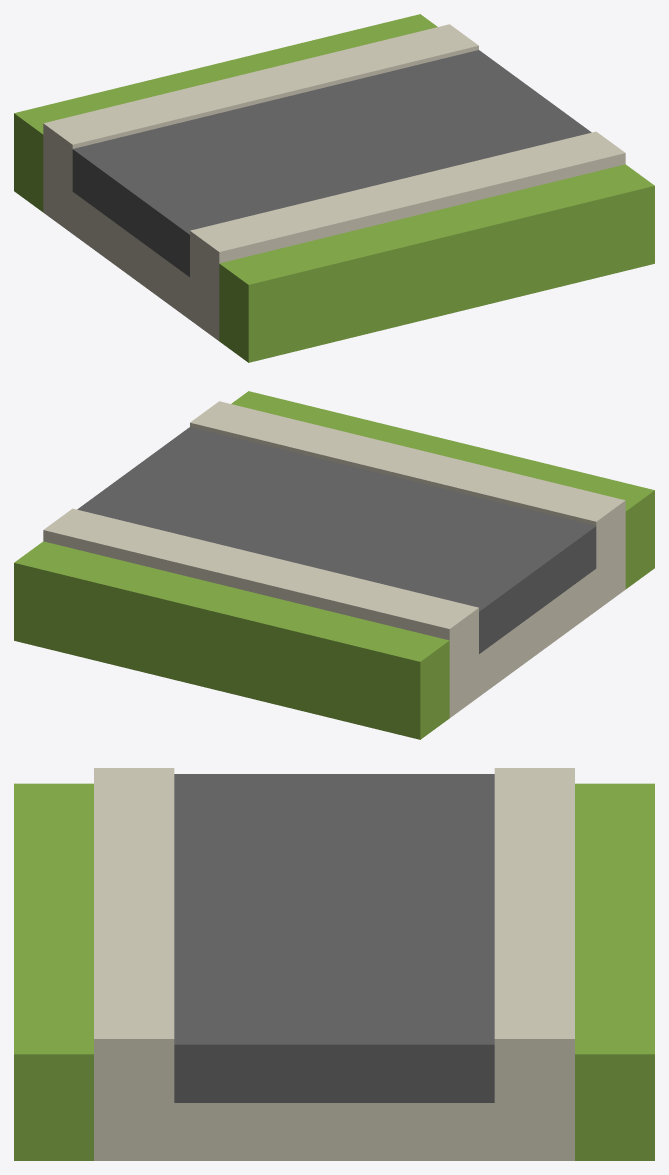
The model's file is road-one-way-grass.obj.
The picture shows the model from 3 angles, top to bottom: view 1: azimuth 30°, elevation 25°; view 2: azimuth 150°, elevation 25°; view 3: azimuth 270°, elevation 25°; orthographic projection. The views are drawn at different scales.
Parts seen in each view (by area): view 1: Mesh1_Group1_Model.161; view 2: Mesh1_Group1_Model.161; view 3: Mesh1_Group1_Model.161.
Boxes of the visible parts, x1,y1,x2,y2 form: Mesh1_Group1_Model.161: [14, 14, 654, 362]; Mesh1_Group1_Model.161: [14, 391, 654, 739]; Mesh1_Group1_Model.161: [14, 768, 654, 1160].
Bounding box in the file's own units: 3 × 0.63 × 3.
